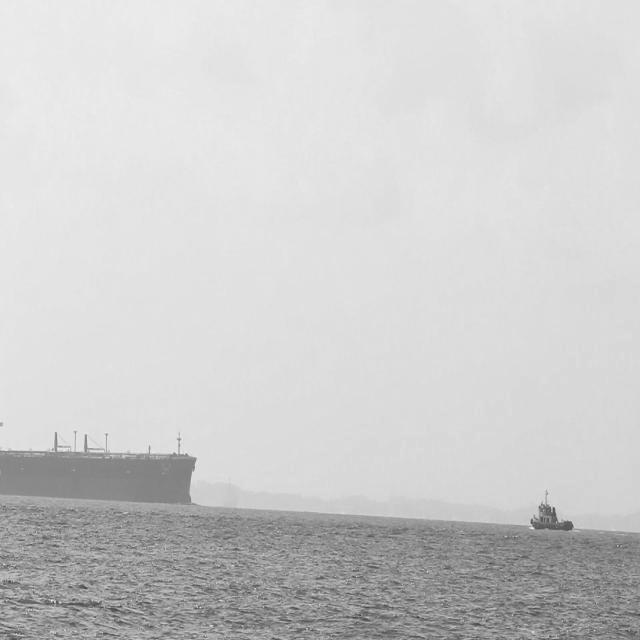ship: (2, 421, 205, 498), (532, 470, 580, 520)
